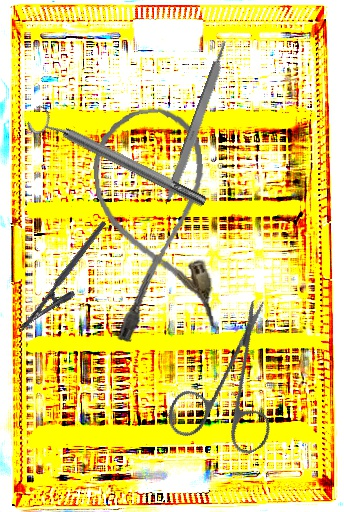Cannula: (87, 103, 221, 344)
Fixation Ring: (24, 101, 212, 218)
Iris Scissors: (136, 296, 323, 480)
Needle Holder: (17, 220, 122, 344)
Scalpel Handle: (161, 38, 234, 208)
